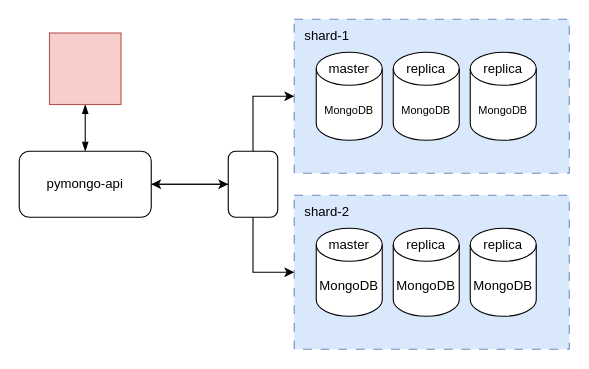
Some shapes in this 589 by 369 pixel diagram are drawn without their labels. The shapes that lost their labels are listed below. From the top down, each one's box as (x1, y1, x2, y2) in pixels, then its label:
(48, 32, 121, 105): cash (redis)
(227, 150, 278, 217): роутер
